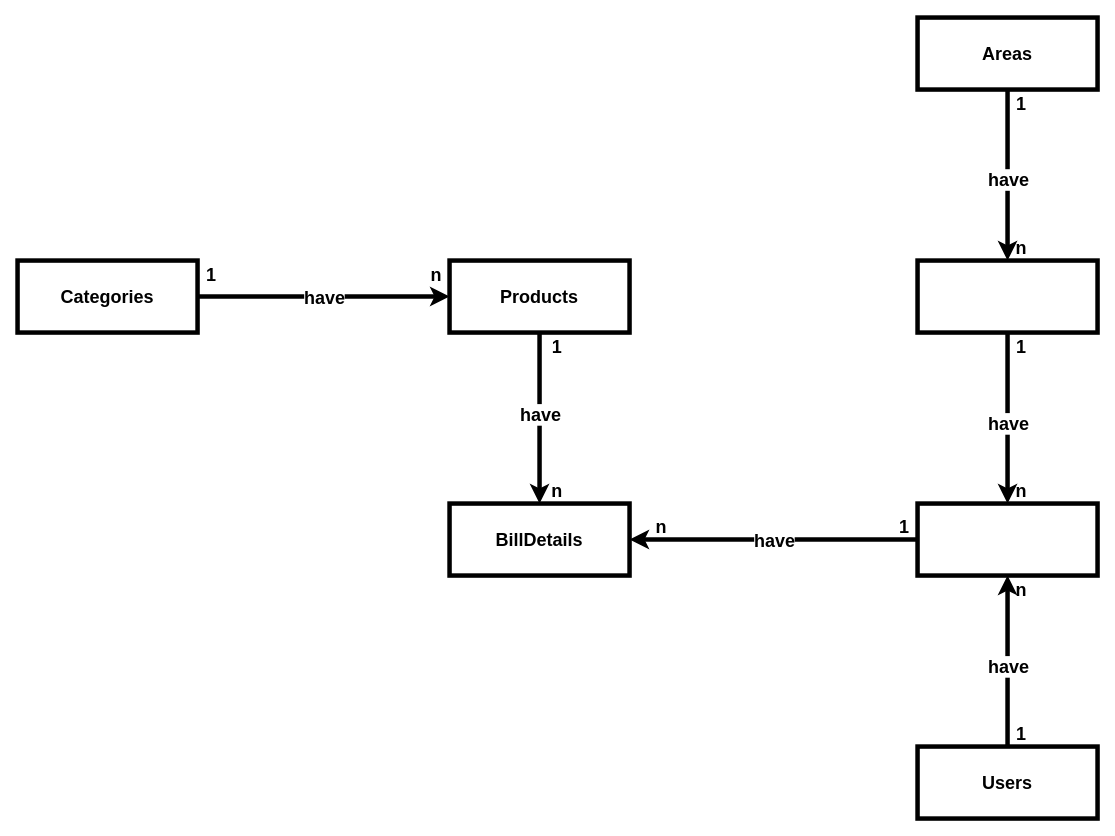
This 1115x836 diagram has some shape labels left out. Each missing label, with the centre of its shape:
Bills: the point at 1007,539
Tables: the point at 1007,296
